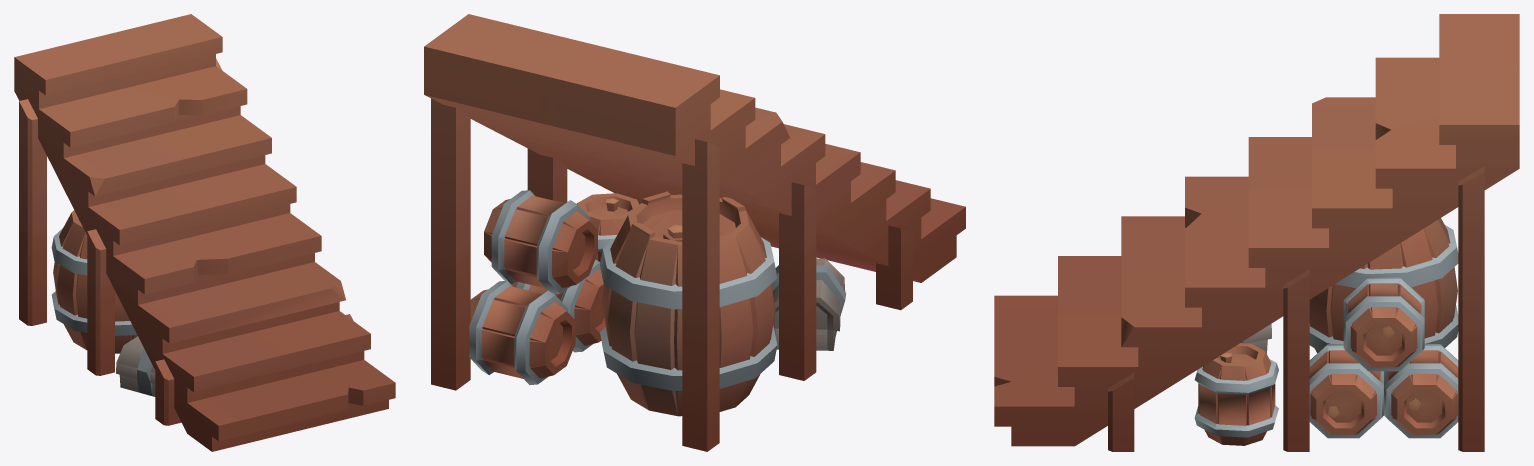
File: kay-escada-madeira.gltf
3 views of the same model, side by side, from view 1: azimuth 30°, elevation 25°; view 2: azimuth 150°, elevation 25°; view 3: azimuth 270°, elevation 25° (orthographic). The views are drawn at different scales.
Visible parts, largest first — view 1: stairs_wood_decorated; view 2: stairs_wood_decorated; view 3: stairs_wood_decorated.
Part boxes in pixels (box(x1,y1,x2,y2)): stairs_wood_decorated: box(14, 14, 395, 451); stairs_wood_decorated: box(424, 14, 965, 451); stairs_wood_decorated: box(994, 14, 1519, 451).
Bounding box in the file's own units: 2.15 × 2.63 × 3.9.
Materials: 1 (1 with a texture image).
